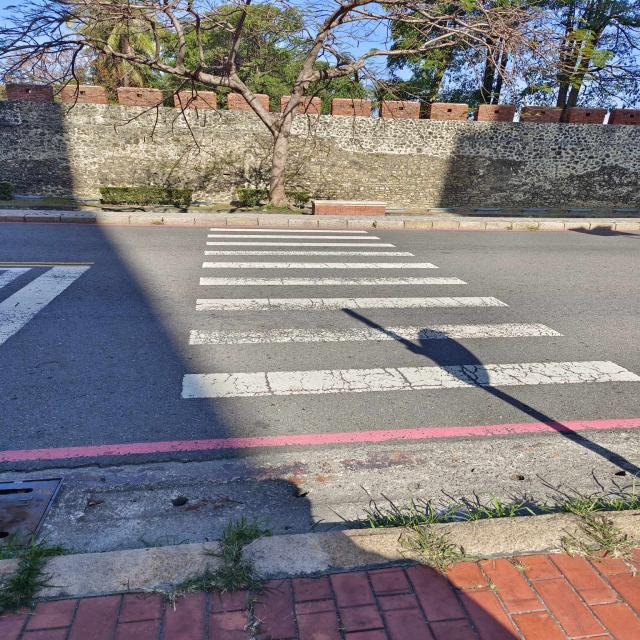zebra_crossing: (130, 17, 309, 421)
